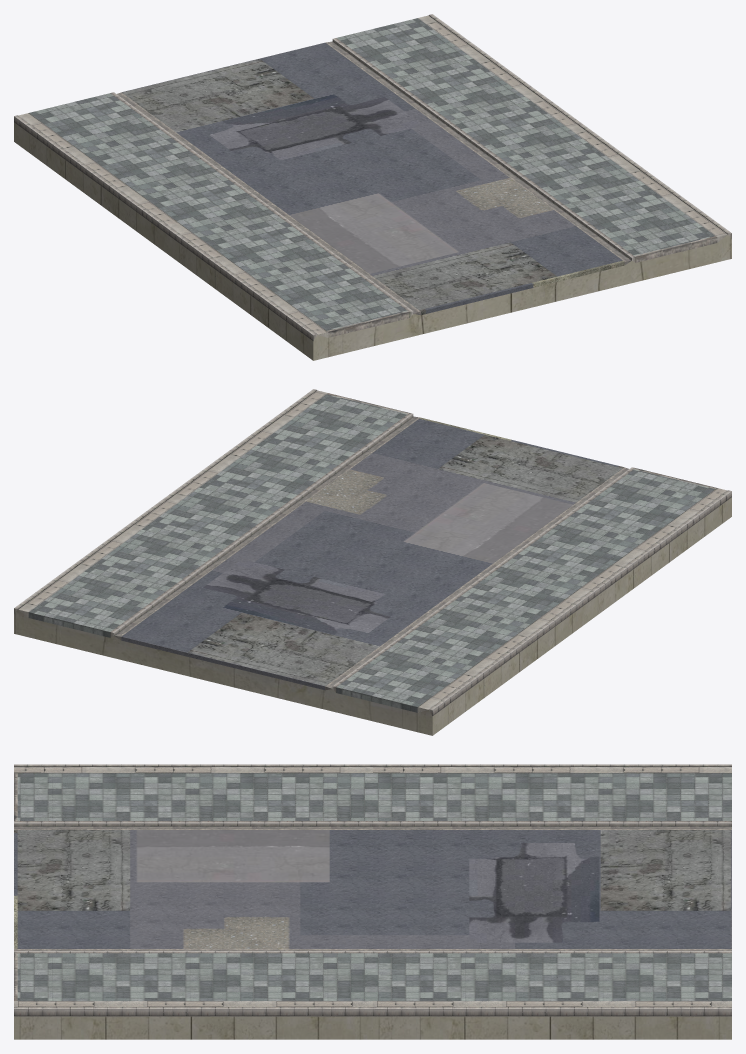
File: road_b1_st2.fbx
3 views of the same model, one above another, from view 1: azimuth 30°, elevation 25°; view 2: azimuth 150°, elevation 25°; view 3: azimuth 270°, elevation 25° (orthographic). The views are drawn at different scales.
Parts seen in each view (by area): view 1: road_b1_st2; view 2: road_b1_st2; view 3: road_b1_st2.
Part boxes in pixels (x1,y1,x2,y2): road_b1_st2: (14,14,731,360); road_b1_st2: (14,389,731,735); road_b1_st2: (14,764,731,1039).
Bounding box in the file's own units: 1130 × 66 × 1400.
